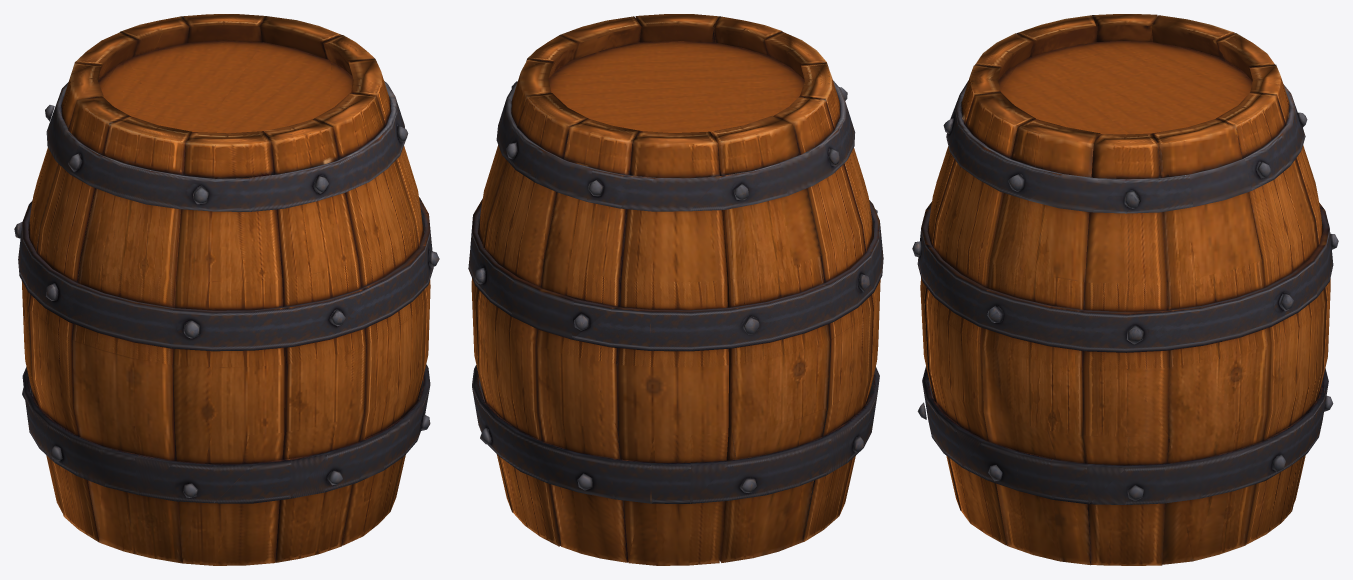
Rendered from barrel_lid.glb.
3 renders of one model, left to right at view 1: azimuth 30°, elevation 25°; view 2: azimuth 150°, elevation 25°; view 3: azimuth 270°, elevation 25°, orthographic.
Bounding box in the file's own units: 0.9414 × 1 × 0.9316.
Materials: 1 (1 with a texture image).
